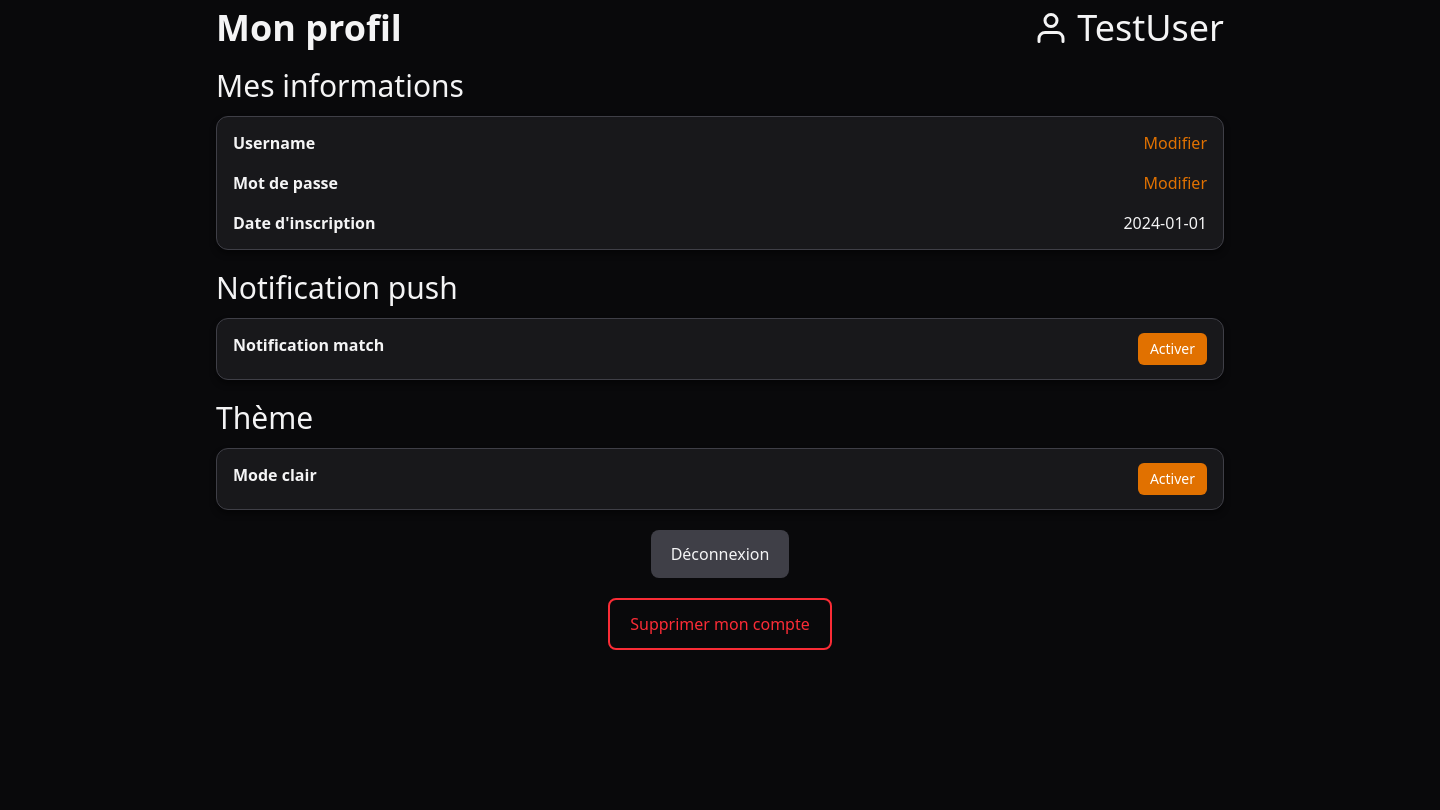
Scenario: ProfilePage › opens the username modal when clicking Modifier for username
Step 1. Click the button "Modifier" in the row of "Username" → click(1175, 143), box [1144,131,1207,155]
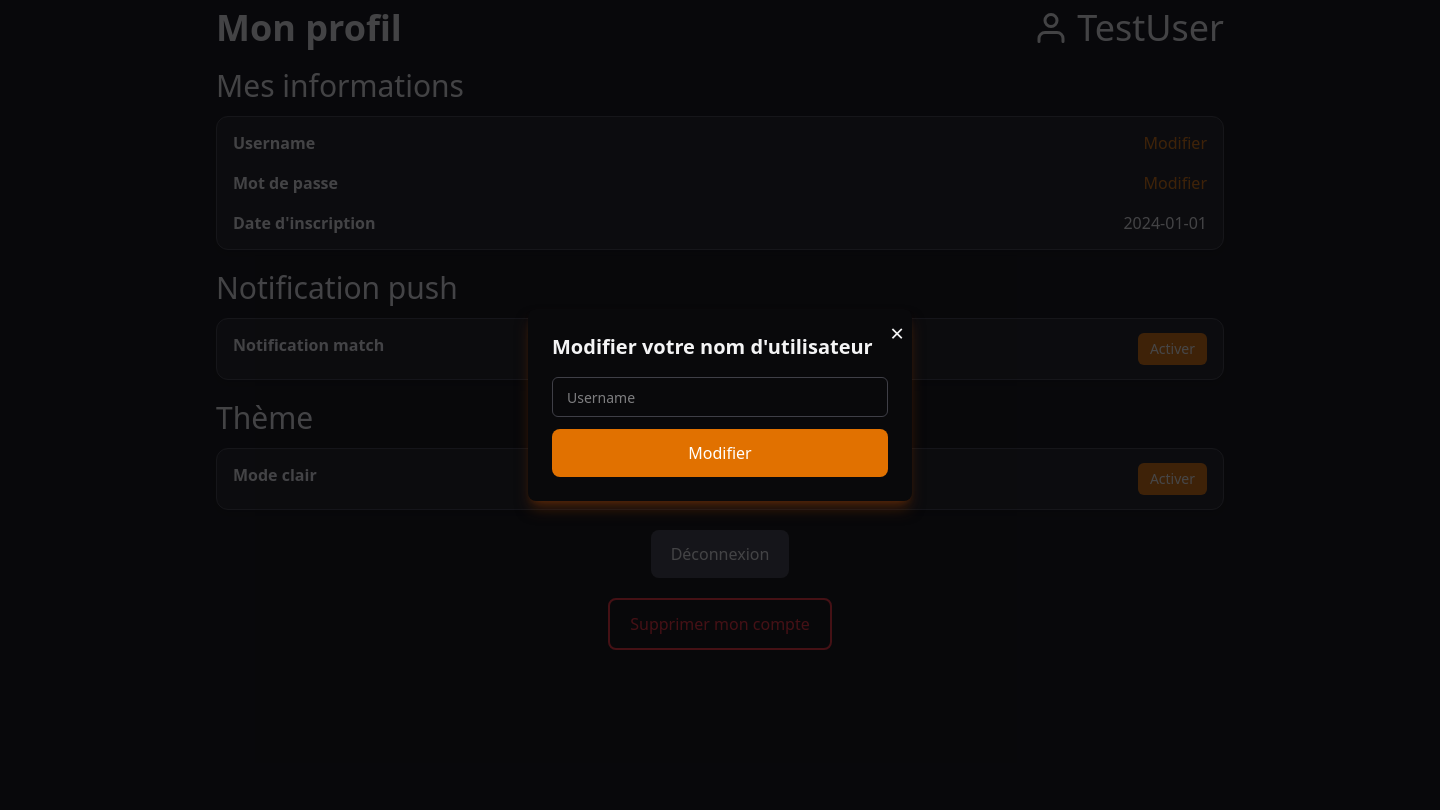
Check: the heading "Modifier votre nom d'utilisateur" is shown, box [552,333,888,361]
